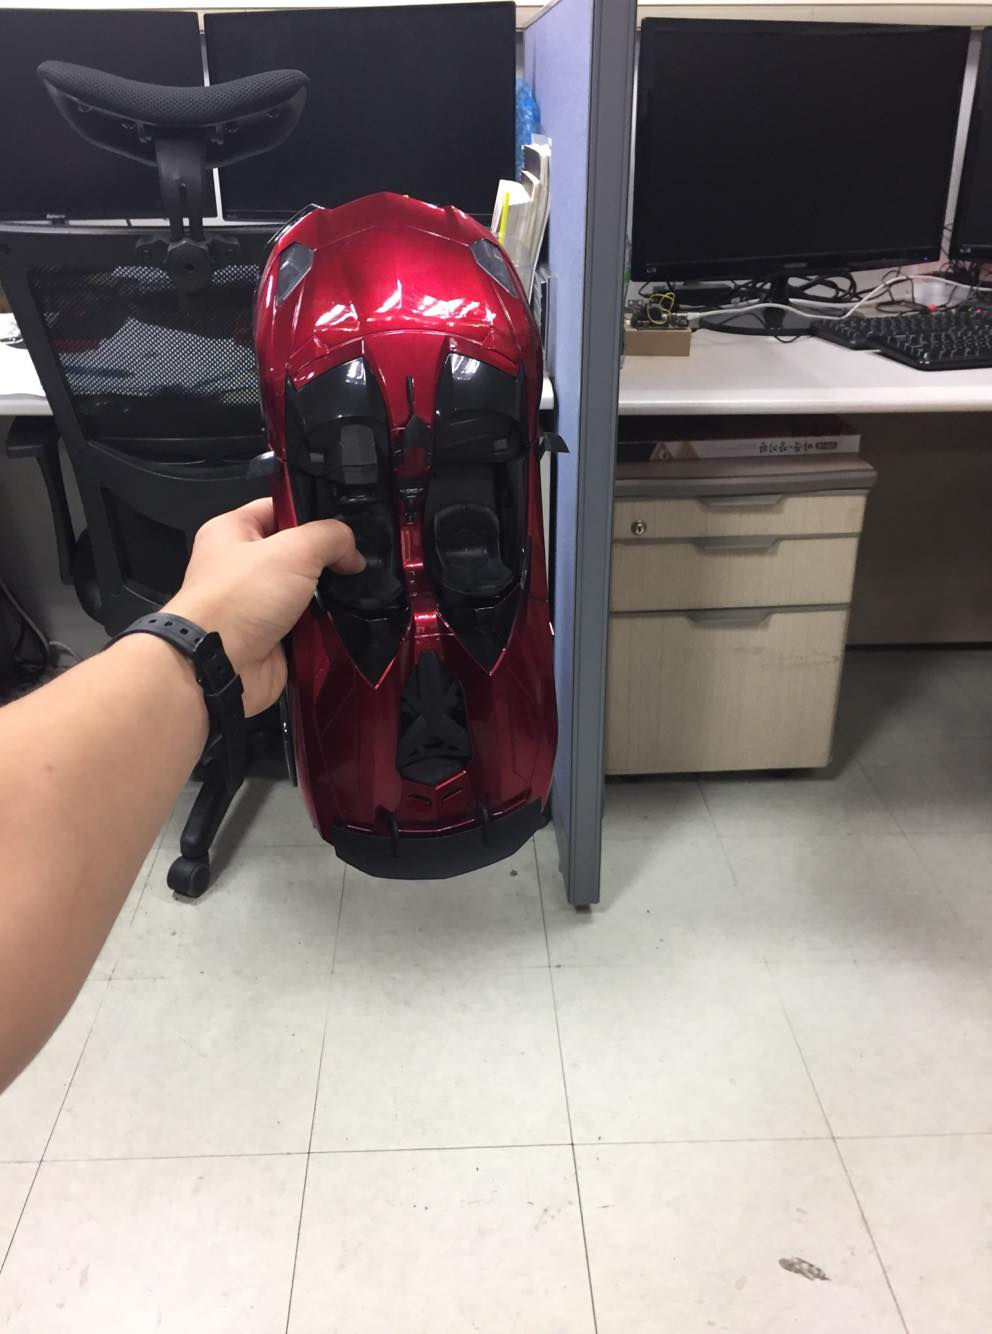car: (234, 191, 577, 874)
